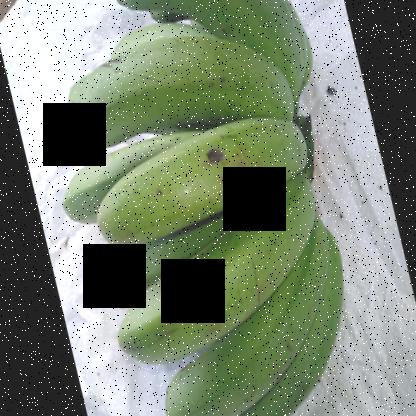unripe: (104, 181, 331, 370), (115, 118, 312, 248), (59, 41, 300, 140)
